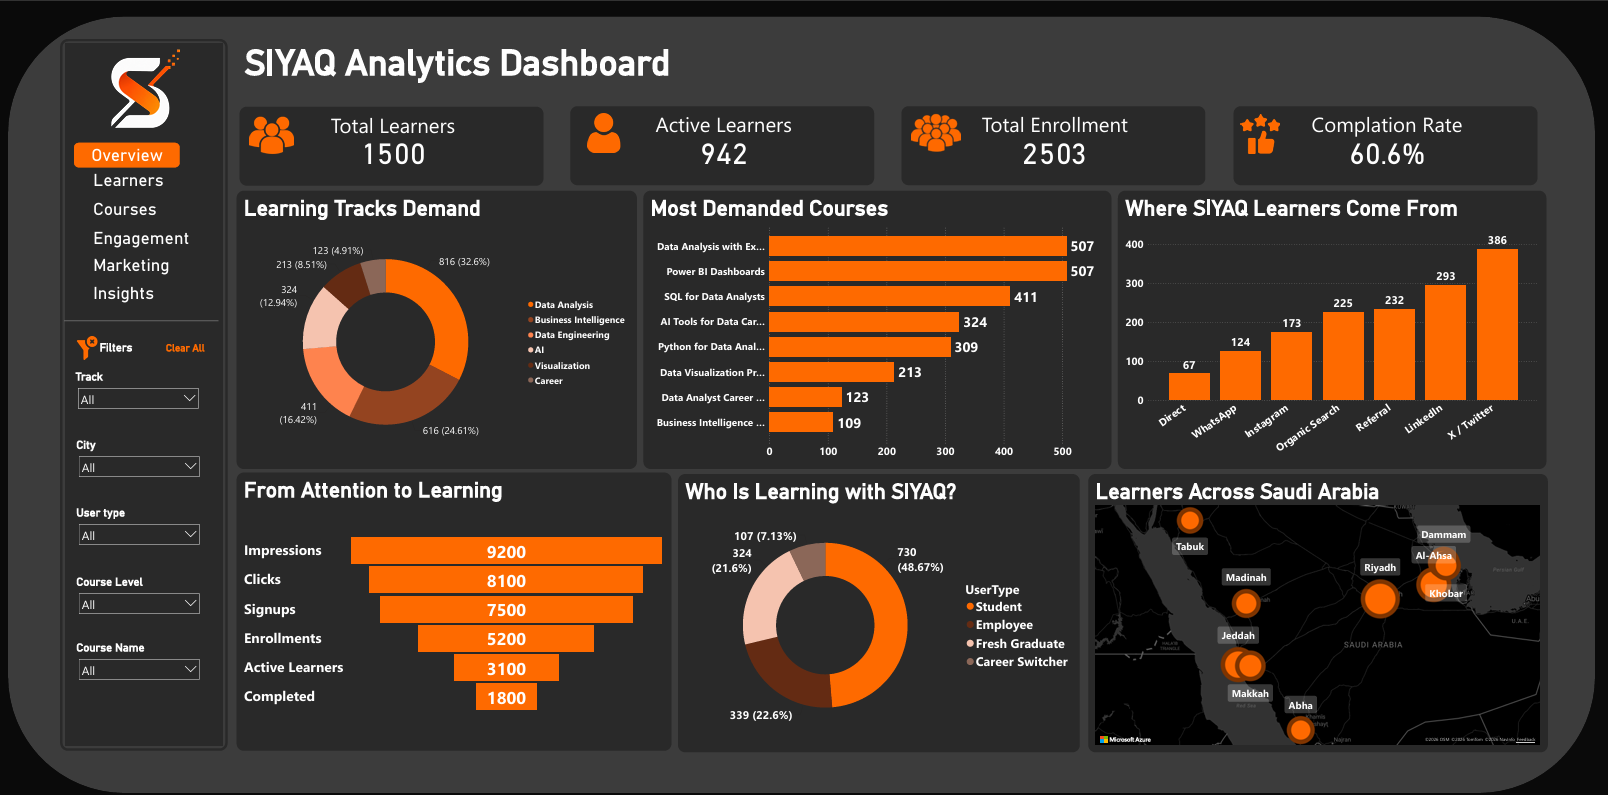

What the dashboard file says about the page in this screenshot:
{"tool":"powerbi","page":{"name":"Page 1","canvas":[3300,1650],"ordinal":0},"visuals":[{"type":"shape","box":[55,45,3210,1570],"z":0},{"type":"shape","box":[160,90,339,1440],"z":2000},{"type":"textbox","title":"Overview","box":[188.2,300,214,50],"z":3000},{"type":"textbox","title":"Learners","box":[222.2,356,202,40],"z":4000},{"type":"textbox","title":"Courses","box":[222.2,414,174,42],"z":5000},{"type":"textbox","title":"Engagement","box":[222.2,472,286,74],"z":6000},{"type":"textbox","title":"Marketing","box":[222.2,528,200,42],"z":7000},{"type":"textbox","title":"Insights","box":[222.2,584,204,84],"z":8000},{"type":"shape","box":[168,600,312,120],"z":9000},{"type":"slicer","title":"Track","fields":{"Values":["CoursesTable.Track"]},"box":[178,752,280,120],"z":10000},{"type":"slicer","title":"City","fields":{"Values":["LearnersTable.City"]},"box":[180,890,280,120],"z":11000},{"type":"slicer","title":"User type","fields":{"Values":["LearnersTable.UserType"]},"box":[180,1026.7,280,120],"z":12000},{"type":"slicer","title":"Course Level","fields":{"Values":["CoursesTable.Level"]},"box":[180,1166.7,280,120],"z":13000},{"type":"slicer","title":"Course Name","fields":{"Values":["CoursesTable.CourseName"]},"box":[180,1300,280,120],"z":14000},{"type":"PBI_CV_7B952816_A48F_49B4_9E13_15E3BB2C0337","title":"Total Learners","fields":{"target":["EnrollmentsTable.Total Learners"],"axis":["CalendarTable.Date"],"TargetValue":["CalendarTable.Previous Learners"],"Values":["CalendarTable.Total Learners Running"]},"box":[523.3,226.7,615,160],"z":15000},{"type":"clusteredColumnChart","title":"Where SIYAQ Learners Come From","fields":{"Category":["LearnersTable.AcquisitionSource"],"Y":["EnrollmentsTable.Total Learners"]},"box":[2300,396.7,866.7,563.3],"z":16000},{"type":"image","box":[513.3,240,150,90],"z":17000},{"type":"PBI_CV_7B952816_A48F_49B4_9E13_15E3BB2C0337","title":"Total Learners","fields":{"Values":["EnrollmentsTable.Active Learners"]},"box":[1192.2,226,615,160],"z":18000},{"type":"PBI_CV_7B952816_A48F_49B4_9E13_15E3BB2C0337","title":"Total Learners","fields":{"Values":["EnrollmentsTable.Total Enrollments"]},"box":[1862.2,226,615,160],"z":19000},{"type":"PBI_CV_7B952816_A48F_49B4_9E13_15E3BB2C0337","title":"Total Learners","fields":{"Values":["EnrollmentsTable.Completion Rate"]},"box":[2534.4,226,615,160],"z":20000},{"type":"image","box":[1193.3,240,146.7,80],"z":22000},{"type":"image","box":[1836.7,230,190,100],"z":23000},{"type":"image","box":[2546.7,243.3,83.3,80],"z":24000},{"type":"clusteredBarChart","title":"Most Demanded Courses","fields":{"Category":["CoursesTable.CourseName"],"Y":["EnrollmentsTable.Total Enrollments"]},"box":[1340,396.7,946.7,563.3],"z":26000},{"type":"donutChart","title":"Learning Tracks Demand","fields":{"Category":["CoursesTable.Track"],"Y":["EnrollmentsTable.Total Enrollments"]},"box":[516.7,396.7,810,563.3],"z":27000},{"type":"azureMap","title":"Learners Across Saudi Arabia","fields":{"Category":["LearnersTable.City"],"Size":["EnrollmentsTable.Total Learners"]},"box":[2240,970,930,563.3],"z":28000},{"type":"donutChart","title":"Who Is Learning with SIYAQ?","fields":{"Category":["LearnersTable.UserType"],"Y":["EnrollmentsTable.Total Learners"]},"box":[1410,970,813.3,563.3],"z":29000},{"type":"funnel","title":"From Attention to Learning","fields":{"Category":["FunnelTable.Stage"],"Y":["Sum(FunnelTable.Value)"]},"box":[516.7,966.7,880,563.3],"z":30000},{"type":"image","box":[186.7,691.2,56,48],"z":31000},{"type":"textbox","title":"Filters","box":[234.7,701.2,258,36],"z":32000},{"type":"textbox","title":"Clear All","box":[368.7,703.2,226,28],"z":33000},{"type":"image","box":[160,66.7,323.3,313.3],"z":33001},{"type":"textbox","title":"SIYAQ Analytics Dashboard","box":[528,96,1152,288],"z":33002}]}

Visuals, with their boxes in screenshot pixels (x1, y1, x2, y2), scaled from the page's 3300x1650 canvas onto the 1608x795 screenshot:
shape: <box>27,22,1591,778</box>
shape: <box>78,43,243,737</box>
"Overview" textbox: <box>92,145,196,169</box>
"Learners" textbox: <box>108,172,207,191</box>
"Courses" textbox: <box>108,199,193,220</box>
"Engagement" textbox: <box>108,227,248,263</box>
"Marketing" textbox: <box>108,254,206,275</box>
"Insights" textbox: <box>108,281,208,322</box>
shape: <box>82,289,234,347</box>
"Track" slicer: <box>87,362,223,420</box>
"City" slicer: <box>88,429,224,487</box>
"User type" slicer: <box>88,495,224,553</box>
"Course Level" slicer: <box>88,562,224,620</box>
"Course Name" slicer: <box>88,626,224,684</box>
"Total Learners" PBI_CV_7B952816_A48F_49B4_9E13_15E3BB2C0337: <box>255,109,555,186</box>
"Where SIYAQ Learners Come From" clusteredColumnChart: <box>1121,191,1543,463</box>
image: <box>250,116,323,159</box>
"Total Learners" PBI_CV_7B952816_A48F_49B4_9E13_15E3BB2C0337: <box>581,109,881,186</box>
"Total Learners" PBI_CV_7B952816_A48F_49B4_9E13_15E3BB2C0337: <box>907,109,1207,186</box>
"Total Learners" PBI_CV_7B952816_A48F_49B4_9E13_15E3BB2C0337: <box>1235,109,1535,186</box>
image: <box>581,116,653,154</box>
image: <box>895,111,988,159</box>
image: <box>1241,117,1282,156</box>
"Most Demanded Courses" clusteredBarChart: <box>653,191,1114,463</box>
"Learning Tracks Demand" donutChart: <box>252,191,646,463</box>
"Learners Across Saudi Arabia" azureMap: <box>1091,467,1545,739</box>
"Who Is Learning with SIYAQ?" donutChart: <box>687,467,1083,739</box>
"From Attention to Learning" funnel: <box>252,466,681,737</box>
image: <box>91,333,118,356</box>
"Filters" textbox: <box>114,338,240,355</box>
"Clear All" textbox: <box>180,339,290,352</box>
image: <box>78,32,235,183</box>
"SIYAQ Analytics Dashboard" textbox: <box>257,46,819,185</box>
